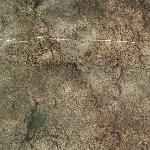dead: (2, 4, 146, 147)
